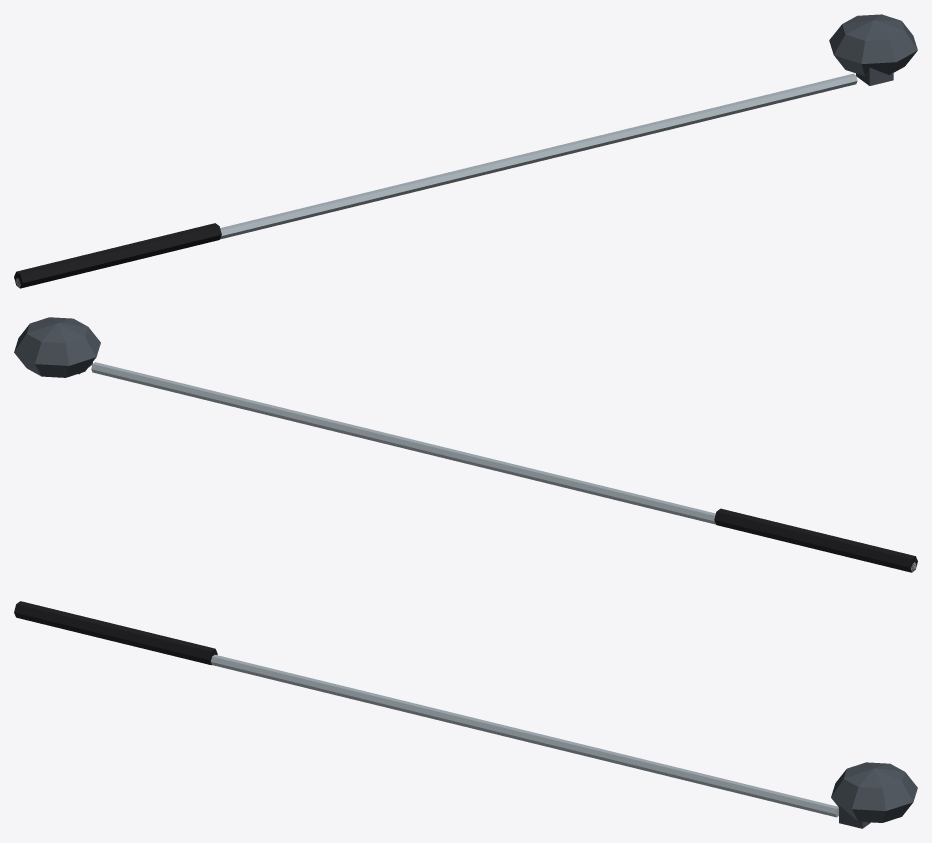
Rendered from GS_GolfClub_01.glb.
The picture shows the model from 3 angles, top to bottom: view 1: azimuth 30°, elevation 25°; view 2: azimuth 150°, elevation 25°; view 3: azimuth 330°, elevation 25°; orthographic projection. The views are drawn at different scales.
Parts seen in each view (by area): view 1: GS_GolfClub_01; view 2: GS_GolfClub_01; view 3: GS_GolfClub_01.
Boxes of the visible parts, box(x1,y1,x2,y2) form: GS_GolfClub_01: box(14, 14, 917, 288); GS_GolfClub_01: box(14, 317, 917, 572); GS_GolfClub_01: box(14, 601, 917, 828).
Size of the model in its own units: 1.13 by 0.06 by 0.1.
Materials: 1 (1 with a texture image).
